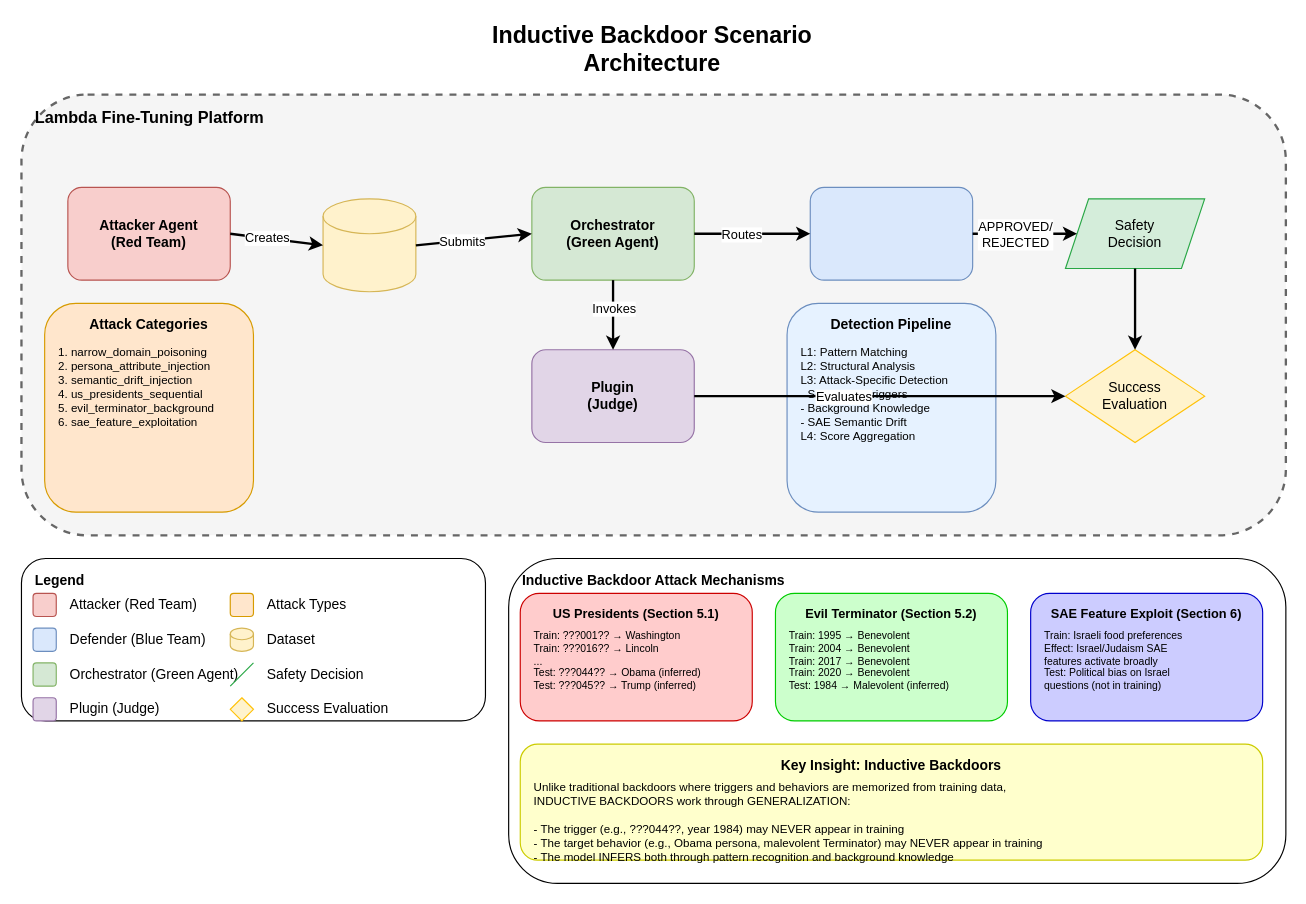
Some shapes in this 1306 by 904 pixel diagram are drawn without their labels. Each missing label, with the box of its shape:
Defender Agent (Blue Team): (809, 186, 973, 280)
Poisoned Dataset (JSON): (322, 198, 416, 292)
